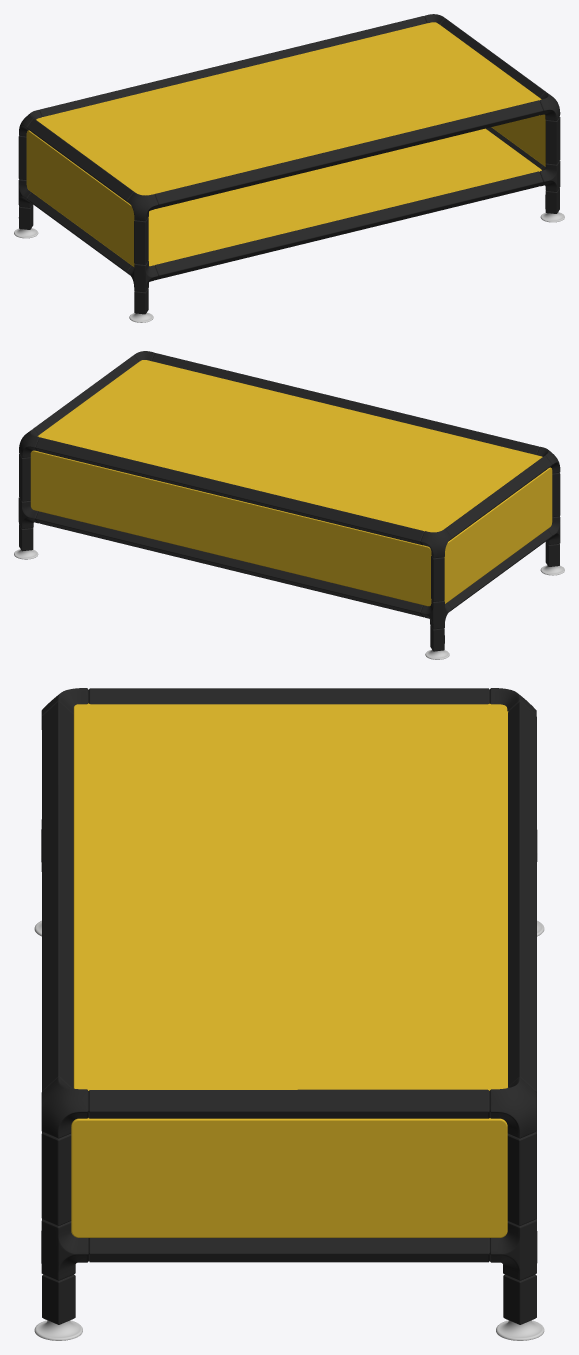
3 views of the same model, one above another, from view 1: azimuth 30°, elevation 25°; view 2: azimuth 150°, elevation 25°; view 3: azimuth 270°, elevation 25° (orthographic). The views are drawn at different scales.
Visible parts, largest first — view 1: 729x329x79; view 2: 729x329x79; view 3: 729x329x79.
Boxes of the visible parts, bbox=[...] form: 729x329x79: bbox=[14, 14, 564, 322]; 729x329x79: bbox=[14, 351, 564, 659]; 729x329x79: bbox=[34, 688, 544, 1340].
Size of the model in its own units: 0.8189 by 0.2183 by 0.4182.
